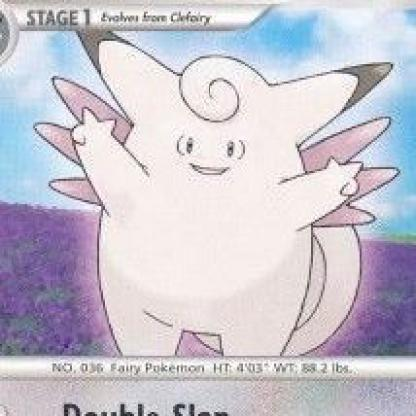Clefable: (36, 22, 401, 356)
